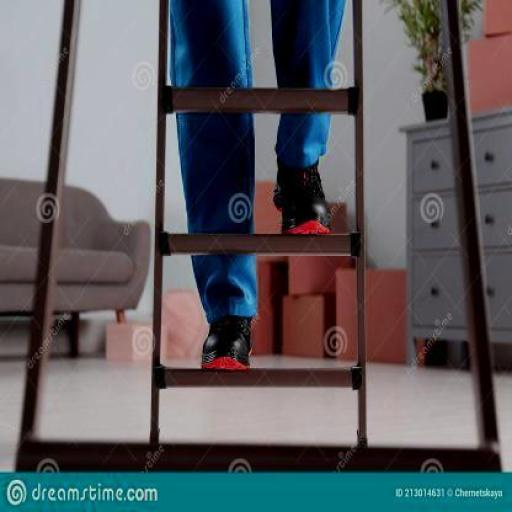safety_shoe: (268, 155, 336, 236), (192, 314, 256, 378)
